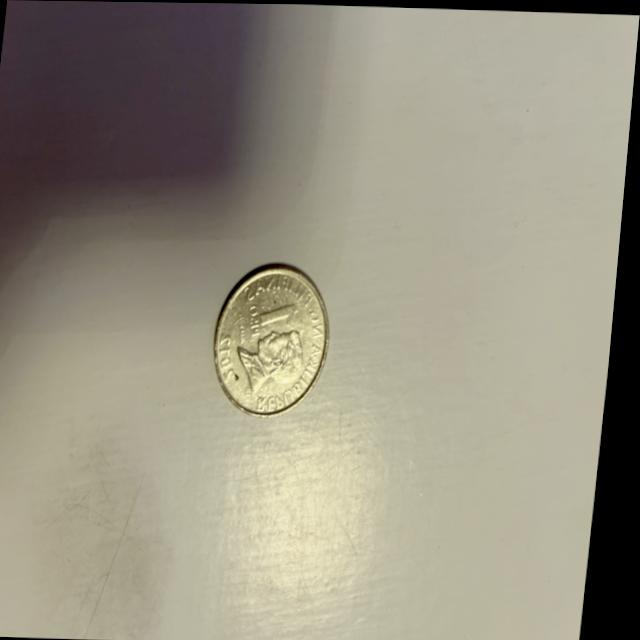1_Old_Front: (245, 291, 301, 341)
